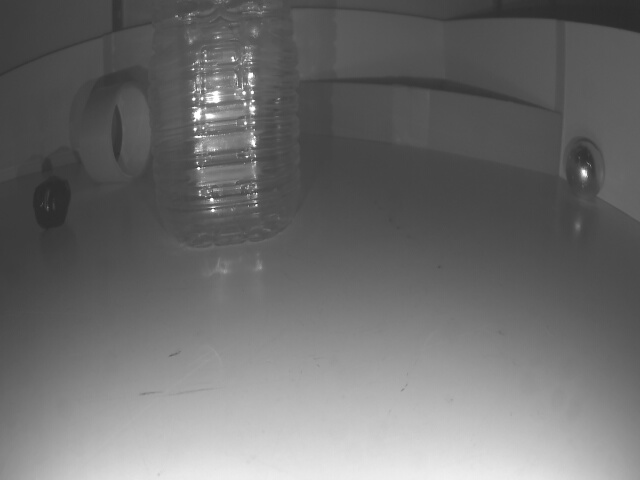Dead: (29, 179, 71, 228)
Live: (563, 135, 603, 202)
Point: (298, 78, 559, 177)
